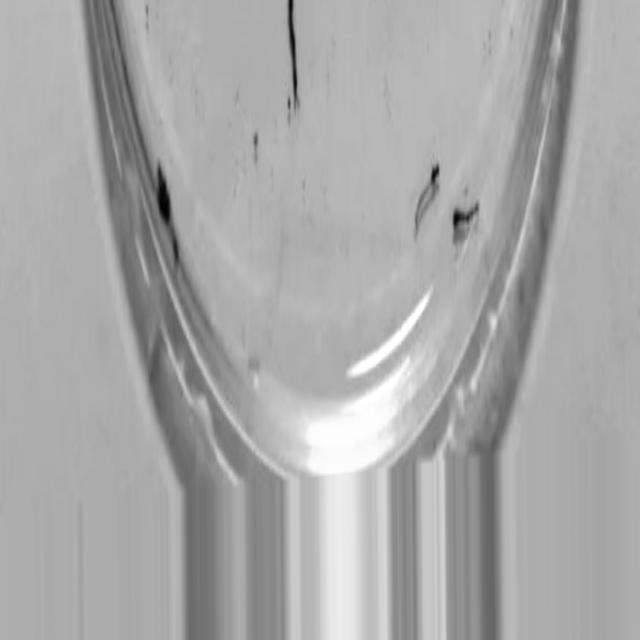larvas: (413, 165, 441, 234), (288, 4, 300, 109), (453, 202, 481, 223)
